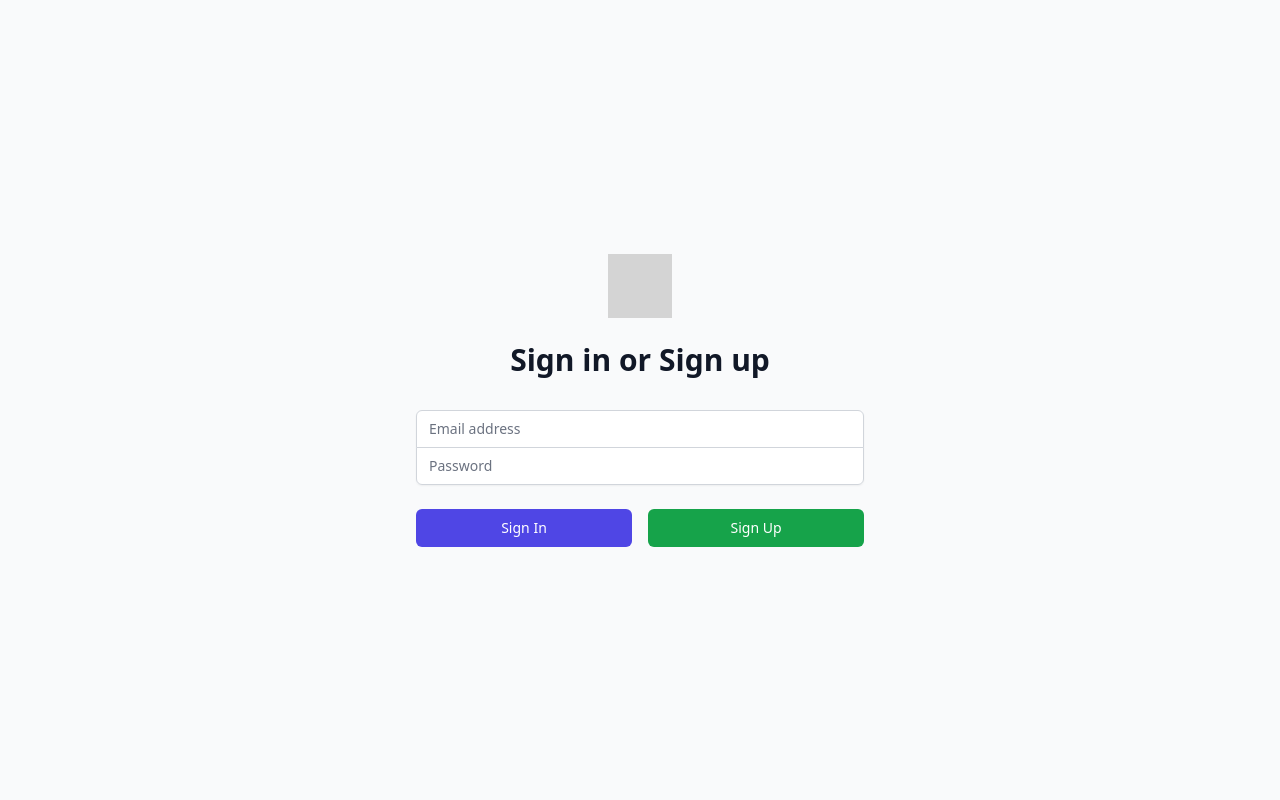
it: Root Index Component (Login Page) › displays an error message on failed sign up
The width and height of the screenshot is (1280, 800).
Type "newuser@example.com" into the field with placeholder "Email address" at (640, 428), box [416,410,864,448]
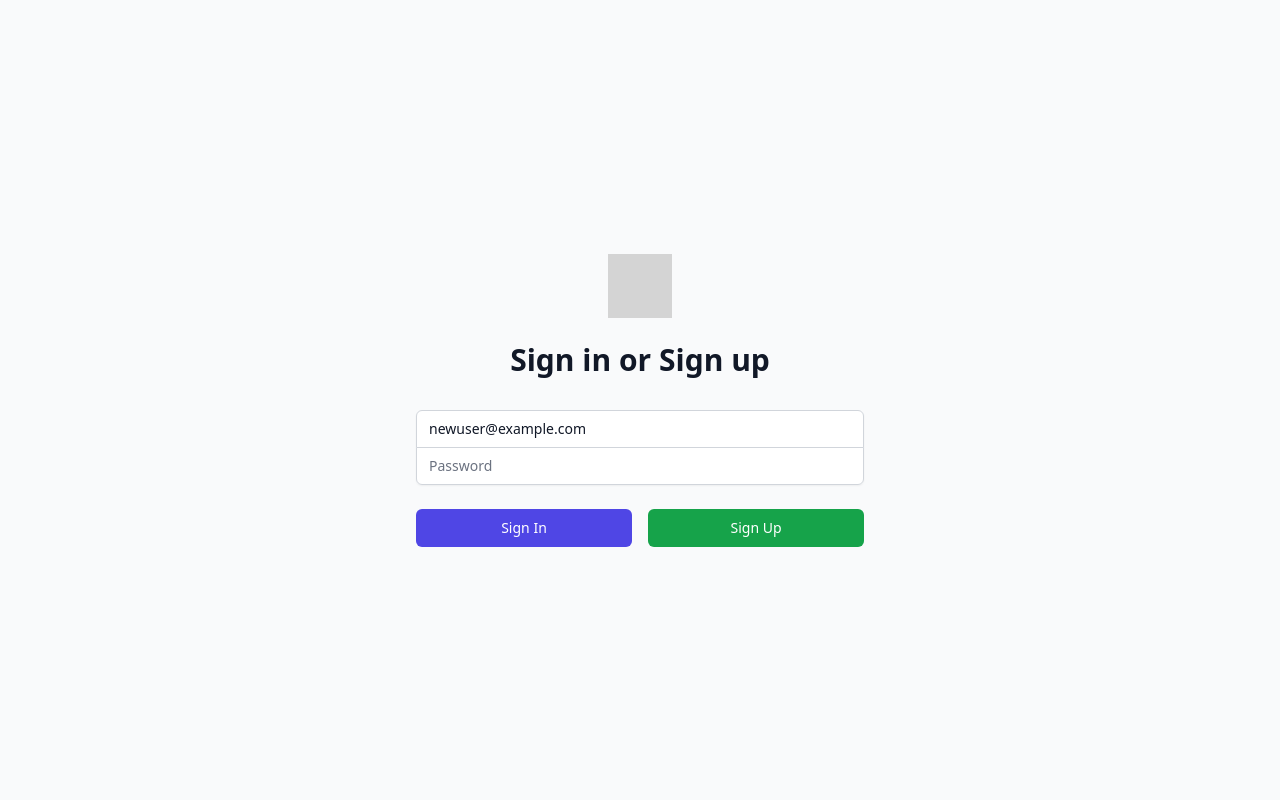
Type "password" into the password field with placeholder "Password" at (640, 466), box [416,446,864,484]
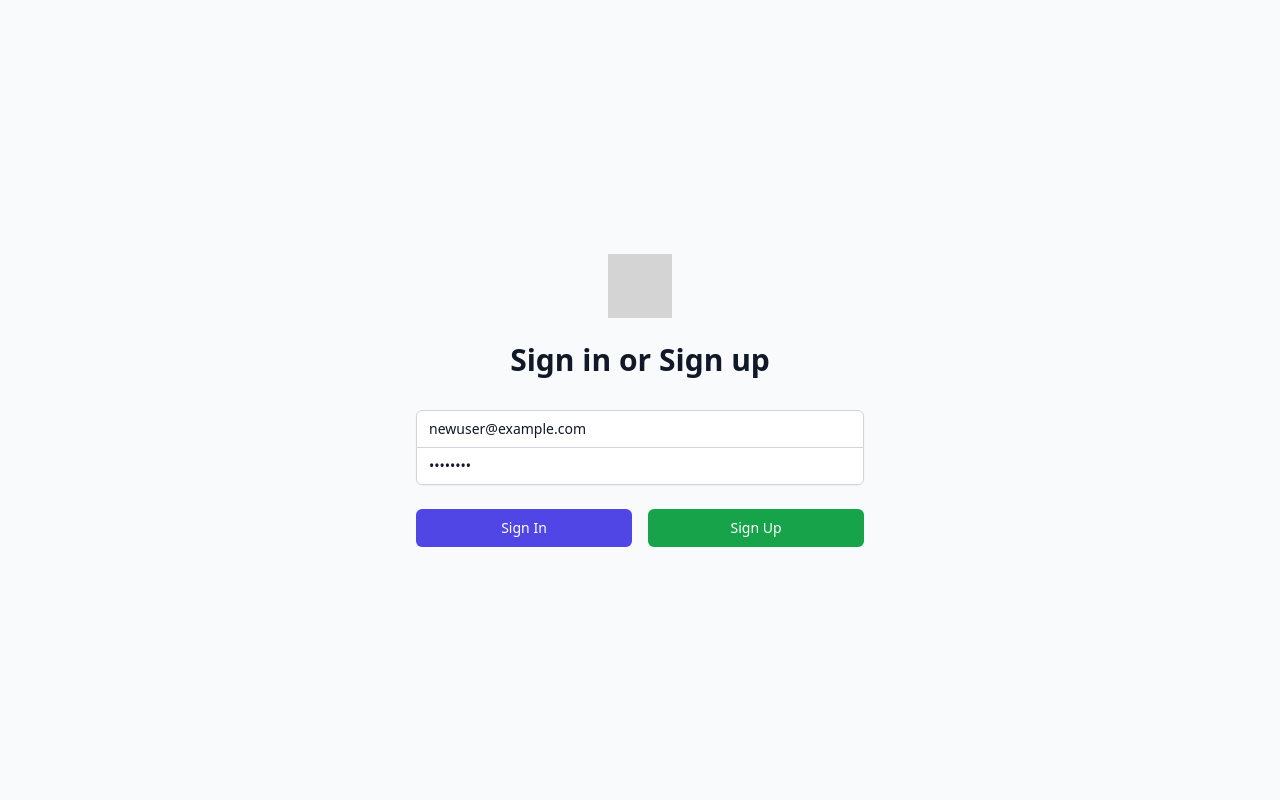
Click the button "Sign Up" at (756, 528), box [648,508,864,546]
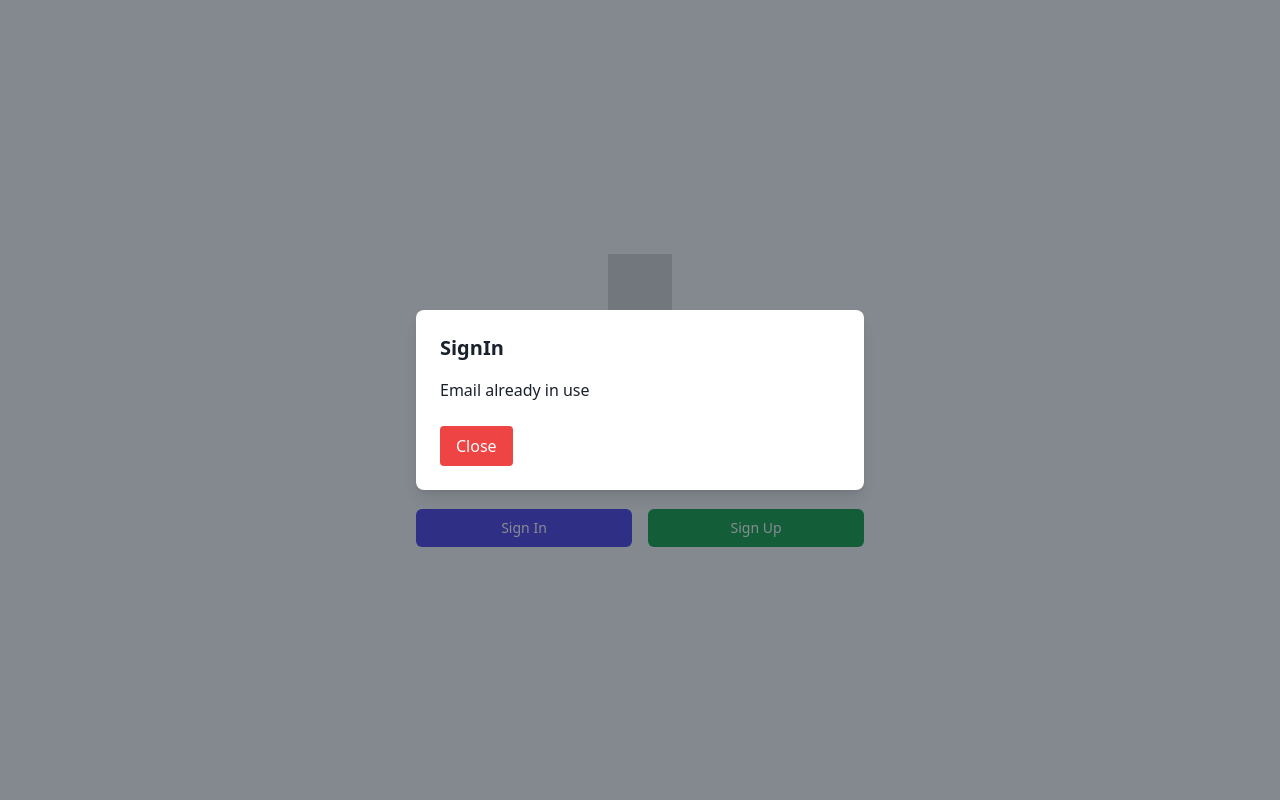
expect the dialog shows "Email already in use": met, box [440,379,590,401]
